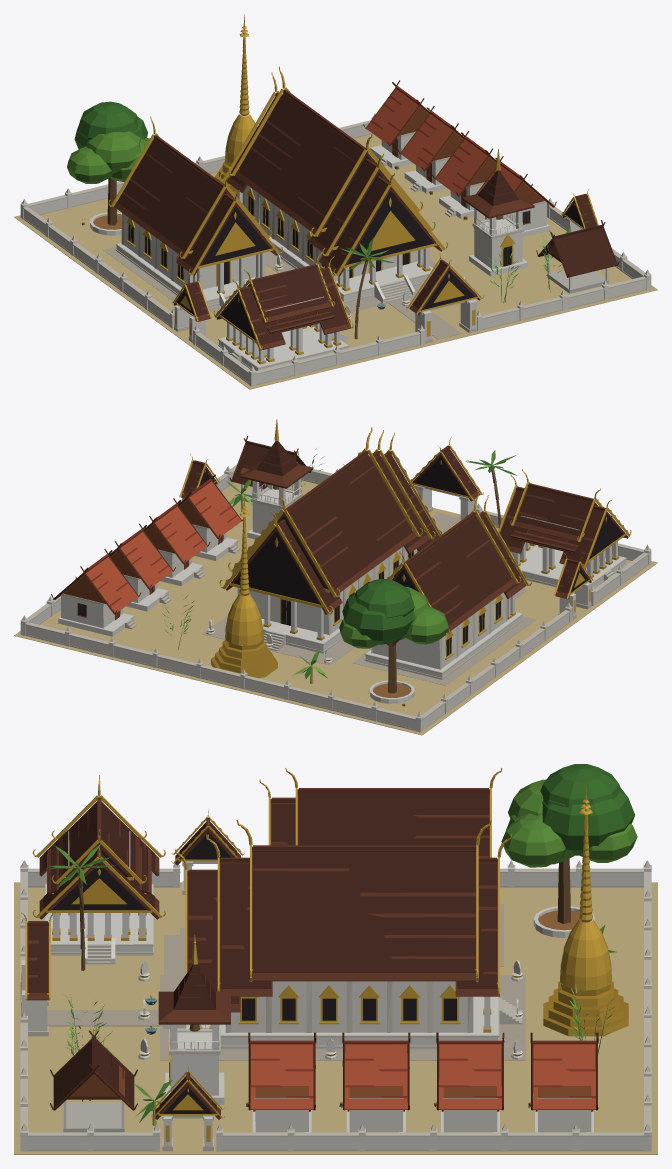
The model's file is temple_3.glb.
3 renders of one model, top to bottom at view 1: azimuth 30°, elevation 25°; view 2: azimuth 150°, elevation 25°; view 3: azimuth 270°, elevation 25°, orthographic. The views are drawn at different scales.
Visible parts, largest first — view 1: body; view 2: body; view 3: body.
Part boxes in pixels (left/top/right/bottom): body: left=14, top=14, right=657, bottom=389; body: left=14, top=419, right=657, bottom=735; body: left=14, top=764, right=657, bottom=1154.
Bounding box in the file's own units: 47.9 × 19.6 × 47.9.
